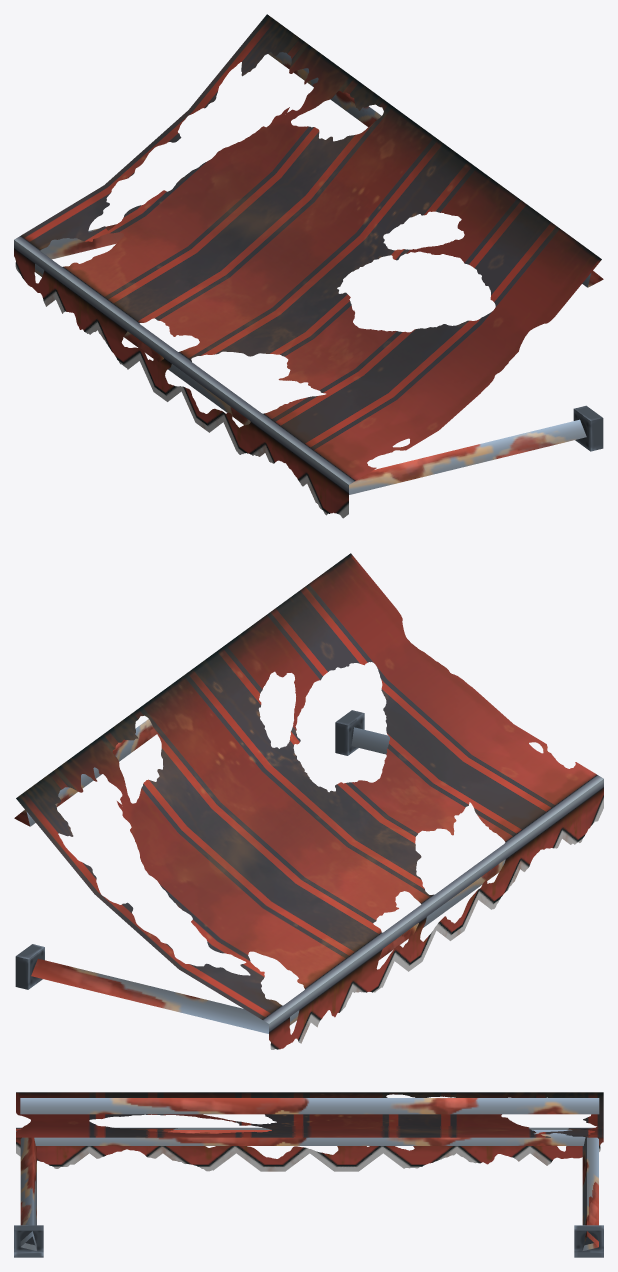
Rendered from awning03.fbx.
3 renders of one model, top to bottom at view 1: azimuth 30°, elevation 25°; view 2: azimuth 150°, elevation 25°; view 3: azimuth 270°, elevation 25°, orthographic. The views are drawn at different scales.
Parts seen in each view (by area): view 1: awning03; view 2: awning03; view 3: awning03.
Boxes of the visible parts, x1=… form: awning03: x1=14, y1=14, x2=603, y2=518; awning03: x1=14, y1=553, x2=603, y2=1049; awning03: x1=14, y1=1092, x2=603, y2=1257.
Bounding box in the file's own units: 132 × 105 × 299.
